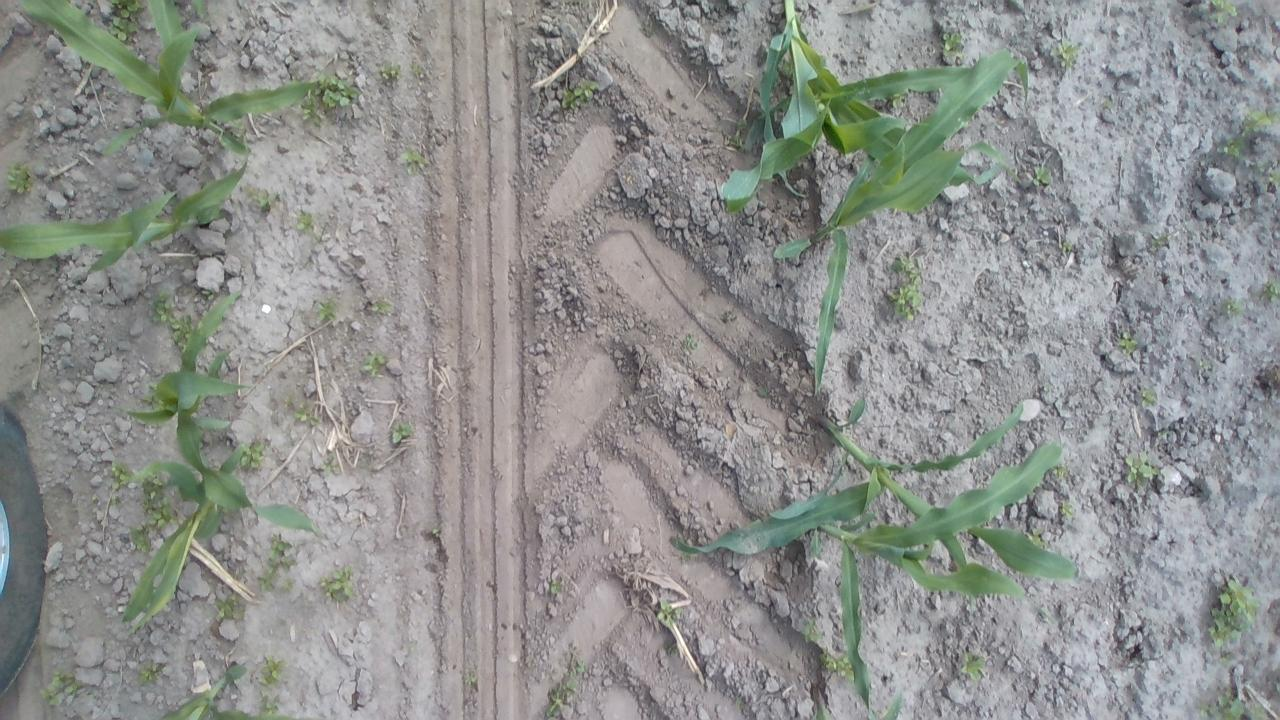Maize: (773, 48, 1029, 398), (808, 442, 1078, 720), (668, 390, 1023, 568), (720, 0, 1011, 217), (114, 287, 322, 538), (18, 0, 321, 156), (1, 135, 250, 274), (120, 444, 246, 636), (158, 662, 292, 720), (809, 683, 833, 720), (879, 691, 902, 720)
Weeds: (1206, 578, 1257, 652), (546, 642, 588, 718), (254, 531, 296, 592), (889, 248, 921, 324), (1196, 688, 1268, 720), (138, 476, 180, 528), (314, 70, 362, 109), (38, 670, 84, 708), (103, 1, 143, 42), (318, 564, 356, 606), (1123, 449, 1160, 485), (561, 79, 599, 114), (242, 183, 282, 214), (6, 162, 40, 198), (1239, 108, 1277, 139), (1050, 36, 1082, 72), (716, 116, 746, 150), (257, 654, 286, 688), (240, 434, 265, 472), (214, 594, 247, 622), (146, 289, 173, 322), (399, 145, 428, 174), (1148, 228, 1180, 254), (299, 94, 323, 128), (138, 659, 166, 687), (960, 651, 986, 681), (656, 599, 683, 626), (1114, 330, 1140, 358), (1215, 134, 1246, 157), (315, 296, 340, 324), (800, 617, 824, 646), (362, 352, 388, 378), (941, 32, 968, 57), (1210, 0, 1238, 24), (128, 524, 152, 552), (168, 314, 192, 342), (294, 399, 318, 426), (1256, 276, 1280, 302), (108, 459, 128, 490), (835, 654, 855, 682), (256, 693, 280, 715), (378, 59, 403, 79), (1030, 166, 1052, 188), (1222, 296, 1244, 318), (1026, 528, 1050, 548), (818, 646, 836, 672), (294, 211, 316, 232), (1138, 387, 1158, 409), (392, 422, 411, 444), (719, 310, 742, 327), (370, 301, 394, 317), (698, 282, 716, 303), (139, 382, 157, 403), (680, 332, 700, 350), (226, 119, 246, 136), (320, 454, 336, 474), (890, 94, 910, 109), (548, 578, 564, 596), (1052, 465, 1068, 482), (1059, 499, 1073, 517), (1268, 166, 1280, 187), (663, 640, 678, 654), (734, 695, 746, 712), (431, 520, 443, 537), (1198, 358, 1210, 374), (411, 60, 422, 77), (282, 577, 297, 589), (1155, 428, 1172, 438), (756, 386, 770, 398), (1040, 382, 1054, 394), (465, 672, 477, 685), (1100, 96, 1112, 108), (1059, 242, 1073, 252), (201, 290, 214, 300), (1219, 654, 1231, 664), (284, 394, 292, 408), (176, 342, 188, 351), (409, 642, 418, 653), (111, 496, 119, 506), (90, 494, 97, 502)
